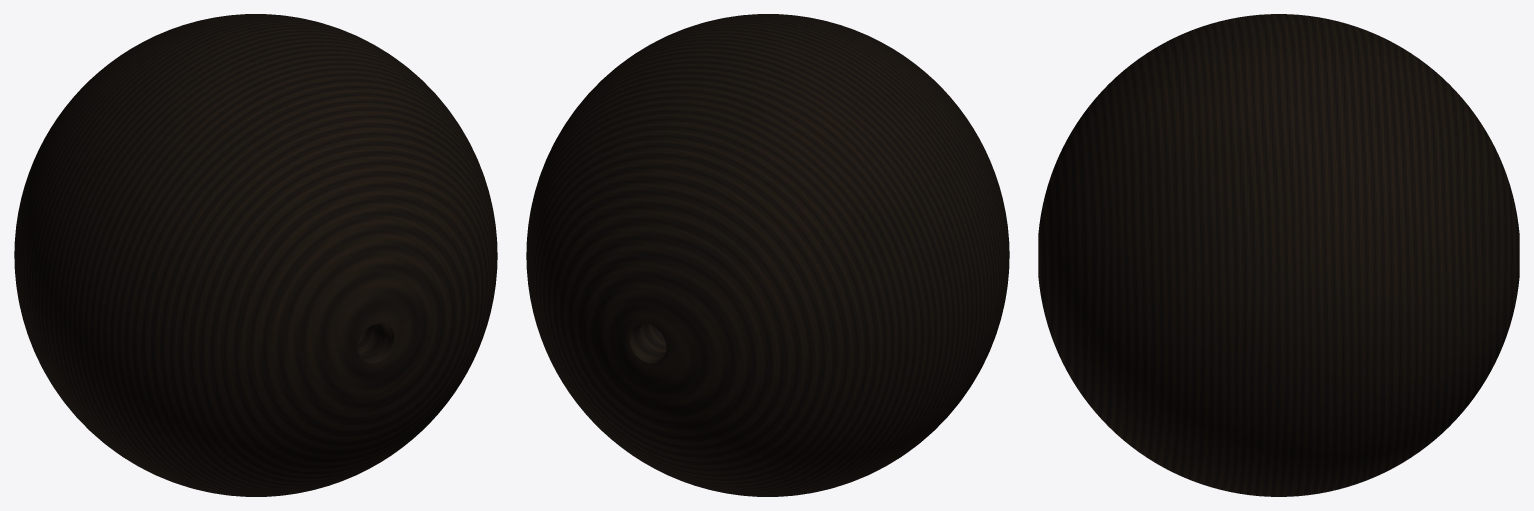
The model's file is karungali-12mm.glb.
3 views of the same model, side by side, from view 1: azimuth 30°, elevation 25°; view 2: azimuth 150°, elevation 25°; view 3: azimuth 270°, elevation 25° (orthographic).
Visible parts, largest first — view 1: karungali.001; view 2: karungali.001; view 3: karungali.001.
Boxes of the visible parts, box(x1,y1,x2,y2) form: karungali.001: box(14, 14, 497, 496); karungali.001: box(526, 14, 1009, 496); karungali.001: box(1038, 14, 1519, 496).
Size of the model in its own units: 0.012 by 0.012 by 0.012.
1 material, 1 textured.
